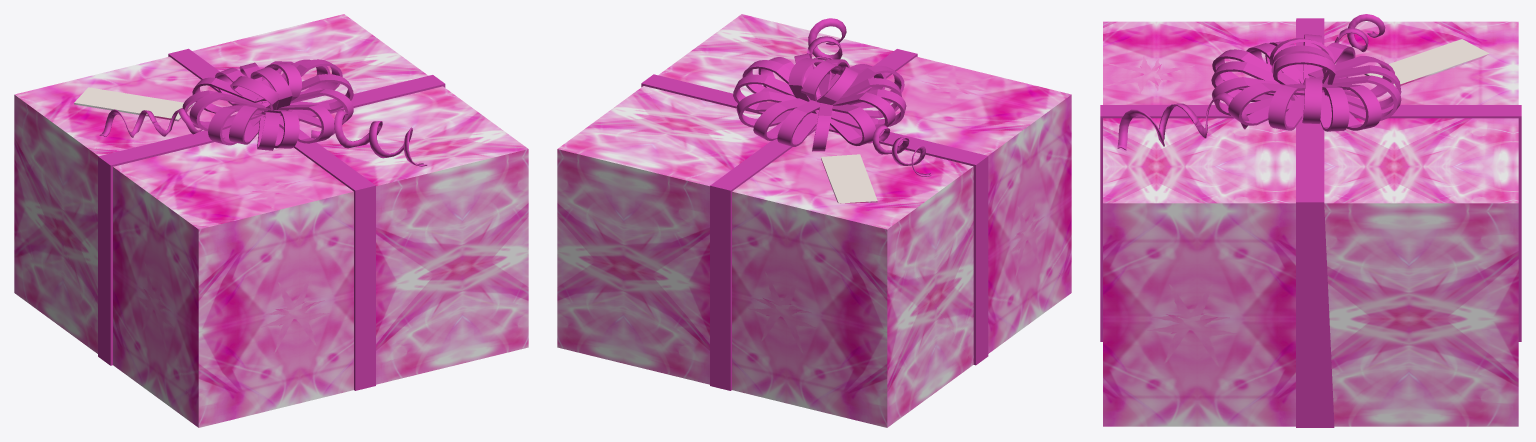
3 renders of one model, left to right at view 1: azimuth 30°, elevation 25°; view 2: azimuth 150°, elevation 25°; view 3: azimuth 270°, elevation 25°, orthographic. The views are drawn at different scales.
Visible parts, largest first — view 1: SketchUp (×3), instance_1, instance_0, group_7, group_5, group_13, group_14, group_6, group_15, group_8, group_17, group_0 (+4 smaller); view 2: SketchUp (×3), group_12, group_16, group_13, instance_1, group_3, group_1, instance_0, group_4, group_10, group_8, group_11 (+5 smaller); view 3: SketchUp (×3), instance_1, group_0, group_17, group_1, group_4, group_10, group_7, group_3, group_12, group_15, group_11 (+7 smaller).
Part boxes in pixels (x1=…): SketchUp (×3): x1=14, y1=14, x2=528, y2=427; instance_1: x1=311, y1=109, x2=427, y2=166; instance_0: x1=99, y1=108, x2=202, y2=137; group_7: x1=269, y1=104, x2=334, y2=143; group_5: x1=229, y1=105, x2=270, y2=144; group_13: x1=189, y1=92, x2=264, y2=131; group_14: x1=250, y1=67, x2=292, y2=115; group_6: x1=208, y1=105, x2=265, y2=145; group_15: x1=264, y1=110, x2=299, y2=148; group_8: x1=230, y1=76, x2=279, y2=110; group_17: x1=288, y1=89, x2=353, y2=127; group_0: x1=290, y1=74, x2=353, y2=111; SketchUp (×3): x1=557, y1=14, x2=1071, y2=427; group_12: x1=777, y1=96, x2=820, y2=146; group_16: x1=830, y1=104, x2=875, y2=145; group_13: x1=831, y1=92, x2=895, y2=129; instance_1: x1=806, y1=18, x2=846, y2=68; group_3: x1=753, y1=98, x2=807, y2=140; group_1: x1=733, y1=74, x2=794, y2=111; instance_0: x1=868, y1=124, x2=931, y2=176; group_4: x1=788, y1=58, x2=831, y2=113; group_10: x1=736, y1=91, x2=819, y2=127; group_8: x1=816, y1=66, x2=858, y2=104; group_11: x1=742, y1=60, x2=817, y2=96; SketchUp (×3): x1=1100, y1=18, x2=1521, y2=427; instance_1: x1=1117, y1=93, x2=1252, y2=150; group_0: x1=1268, y1=83, x2=1304, y2=130; group_17: x1=1228, y1=83, x2=1304, y2=125; group_1: x1=1320, y1=83, x2=1349, y2=131; group_4: x1=1273, y1=53, x2=1335, y2=96; group_10: x1=1333, y1=84, x2=1381, y2=130; group_7: x1=1212, y1=77, x2=1295, y2=115; group_3: x1=1322, y1=75, x2=1401, y2=120; group_12: x1=1309, y1=65, x2=1401, y2=109; group_15: x1=1211, y1=61, x2=1277, y2=101; group_11: x1=1302, y1=78, x2=1322, y2=123.
Bounding box in the file's own units: 15.73 × 15.22 × 11.41.
